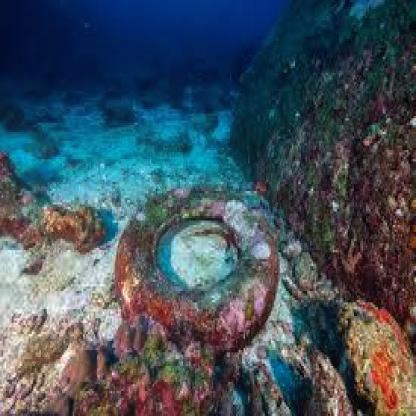tire: (118, 173, 281, 359)
